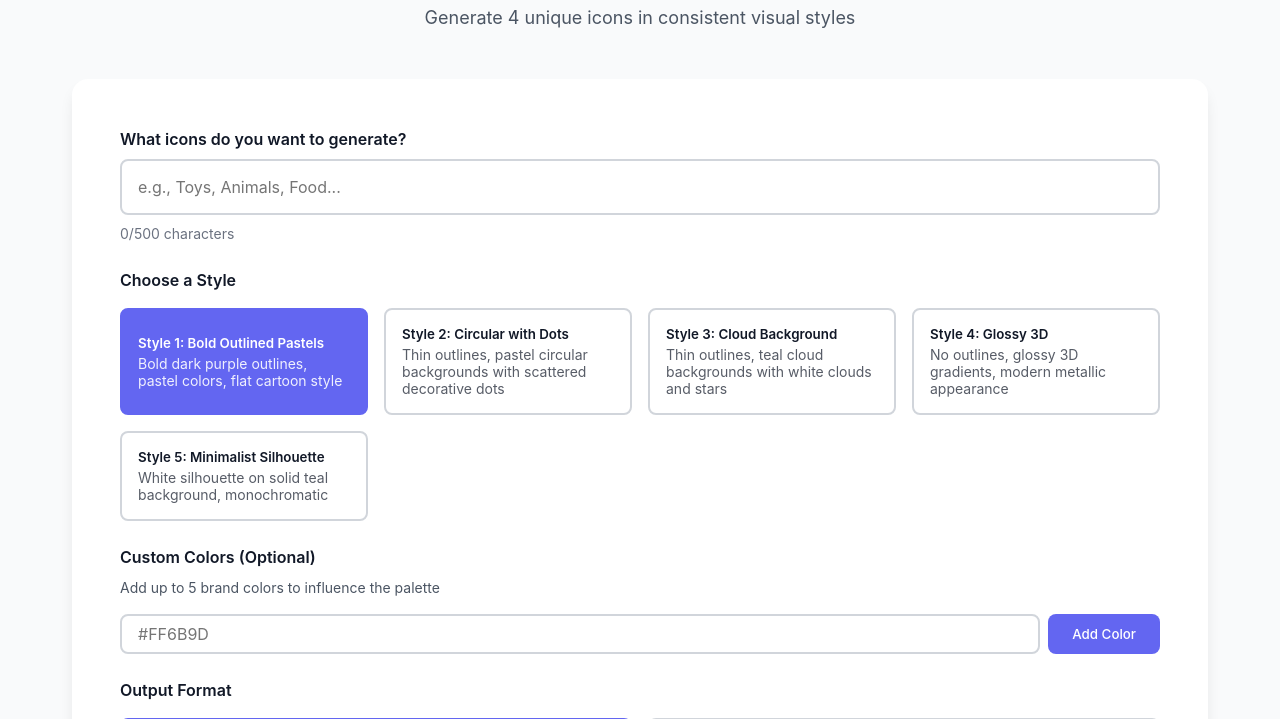
App Integration › enables Generate button when prompt is filled
In the field with placeholder "e.g., Toys, Animals, Food...": x=640, y=187 [120,159,1160,215], type "Toys"
(page scrolled)
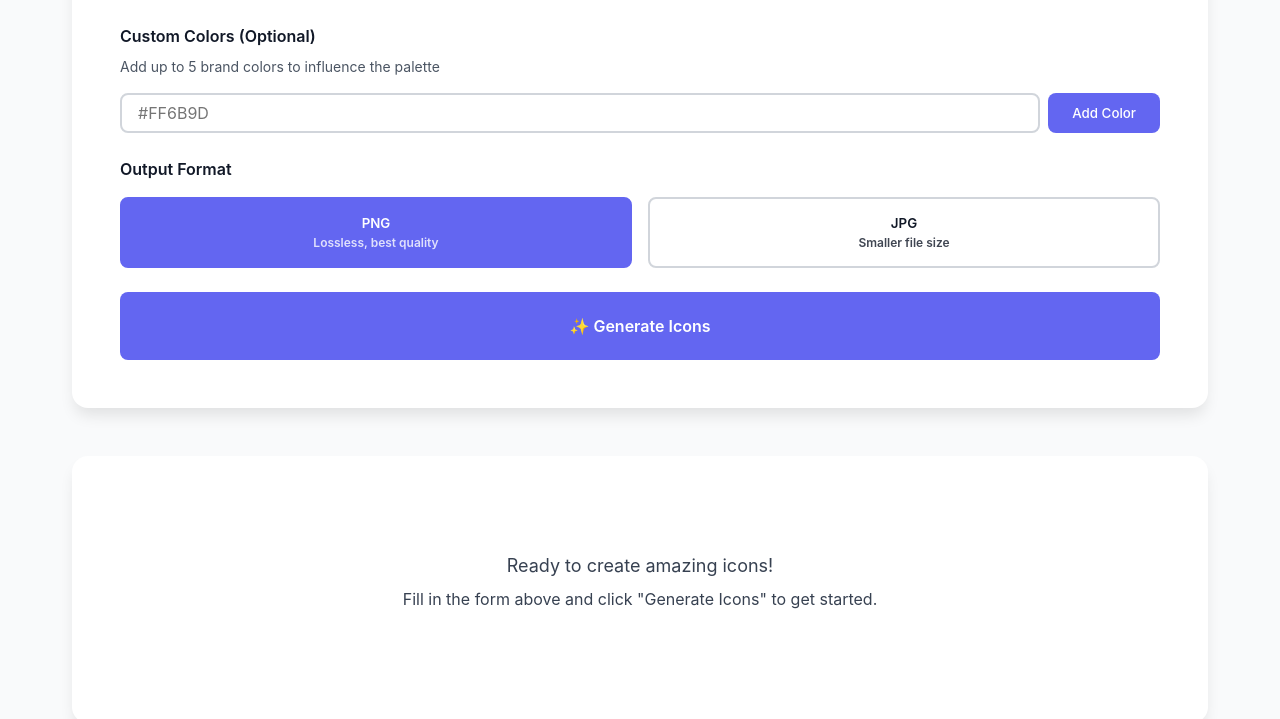
Check: the button "✨ Generate Icons" is enabled, box [120,292,1160,360]
